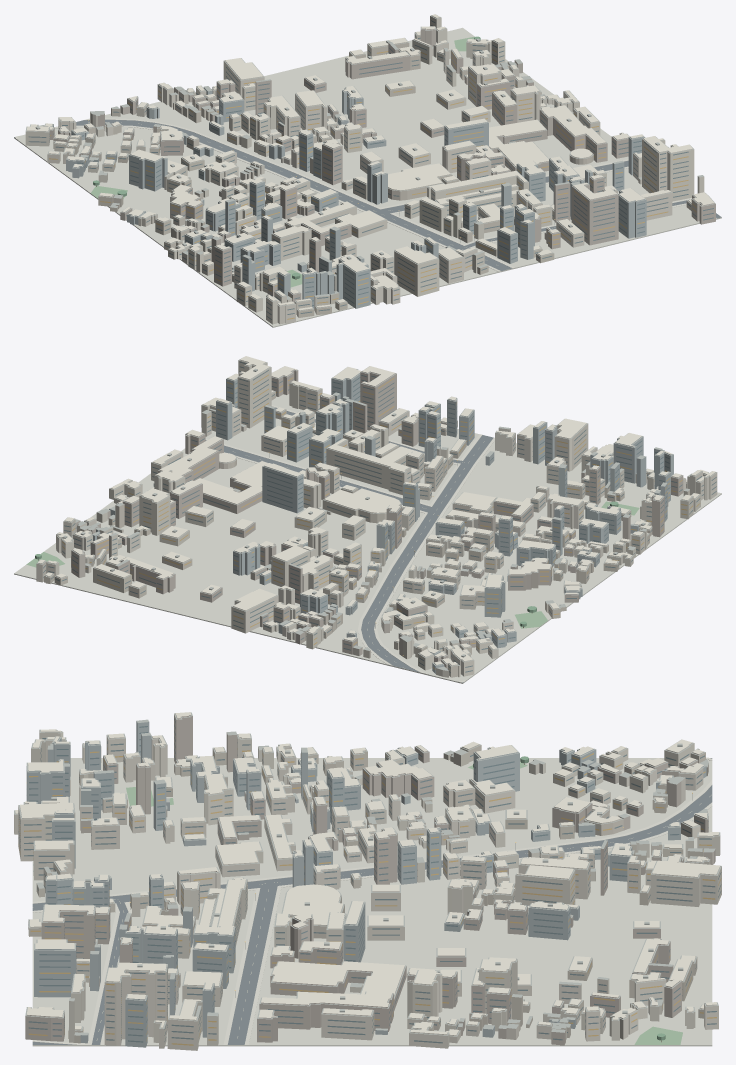
3 renders of one model, top to bottom at view 1: azimuth 30°, elevation 25°; view 2: azimuth 150°, elevation 25°; view 3: azimuth 270°, elevation 25°, orthographic. The views are drawn at different scales.
Parts seen in each view (by area): view 1: city; view 2: city; view 3: city.
Part boxes in pixels (bbox=[...]): city: bbox=[14, 14, 721, 327]; city: bbox=[14, 356, 721, 683]; city: bbox=[14, 712, 721, 1050].
Size of the model in its own units: 518 by 53.95 by 521.
